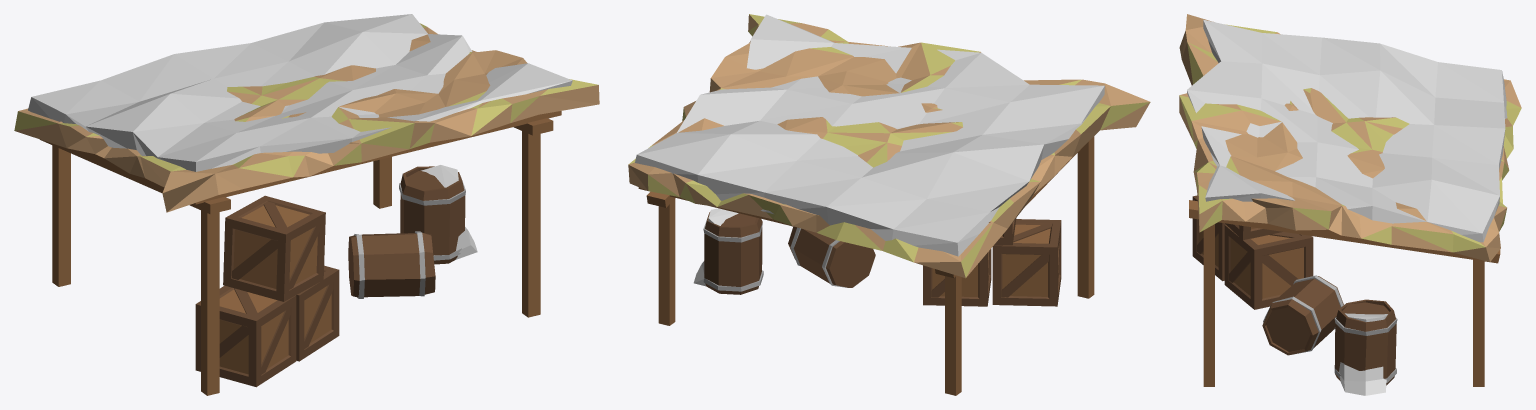
The model's file is Warehouse_1_lvl_snow_mat.fbx.
The picture shows the model from 3 angles, left to right: view 1: azimuth 30°, elevation 25°; view 2: azimuth 150°, elevation 25°; view 3: azimuth 270°, elevation 25°; orthographic projection. The views are drawn at different scales.
Visible parts, largest first — view 1: Warehouse_1_lvl_snow_mat; view 2: Warehouse_1_lvl_snow_mat; view 3: Warehouse_1_lvl_snow_mat.
Part boxes in pixels (<box>): Warehouse_1_lvl_snow_mat: <box>14,14,599,395</box>; Warehouse_1_lvl_snow_mat: <box>628,14,1150,395</box>; Warehouse_1_lvl_snow_mat: <box>1179,14,1521,395</box>.
Size of the model in its own units: 4.4 by 2.24 by 3.24.
